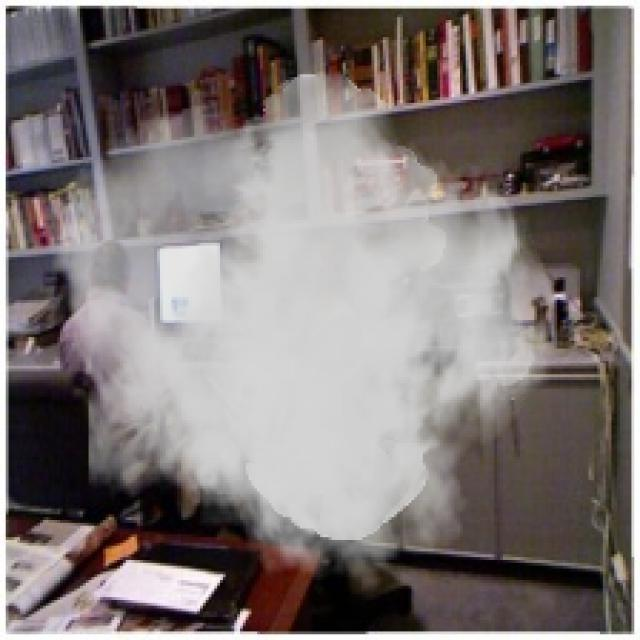smoke: (43, 71, 560, 594)
